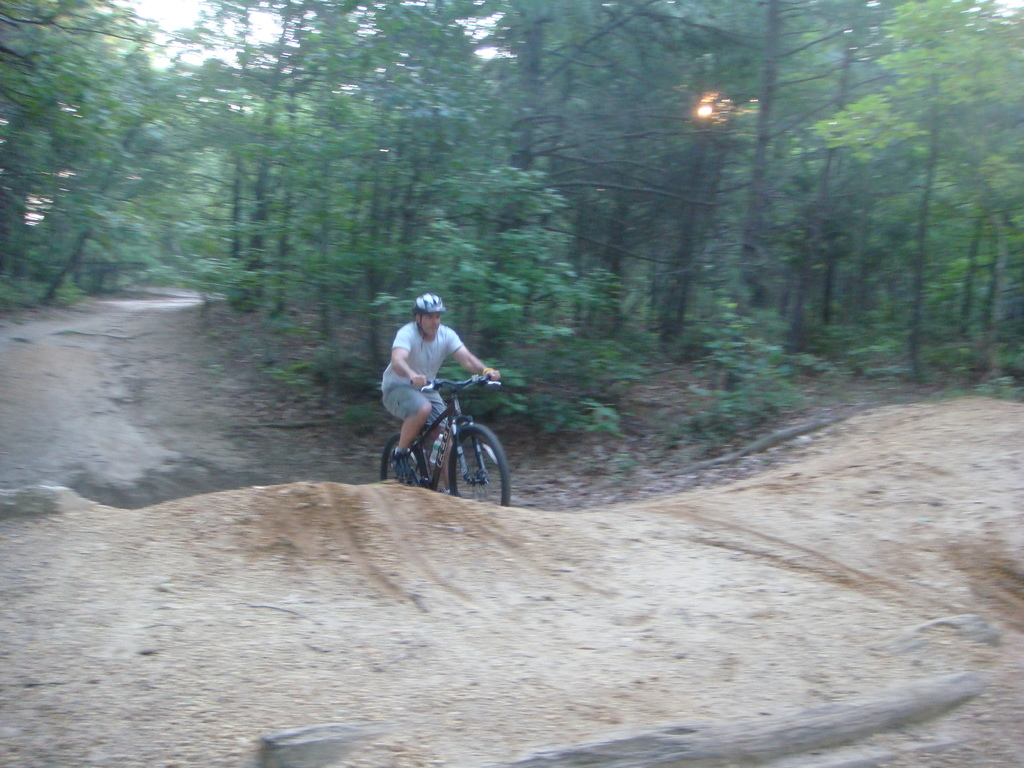bicycle: (379, 373, 497, 503)
